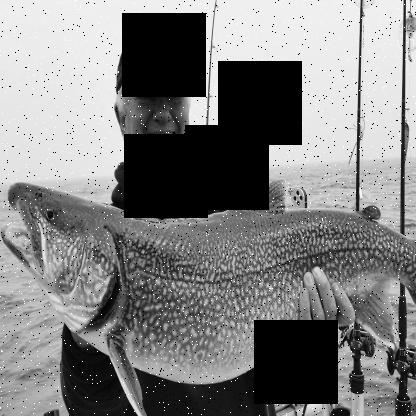fish: (0, 179, 415, 416)
